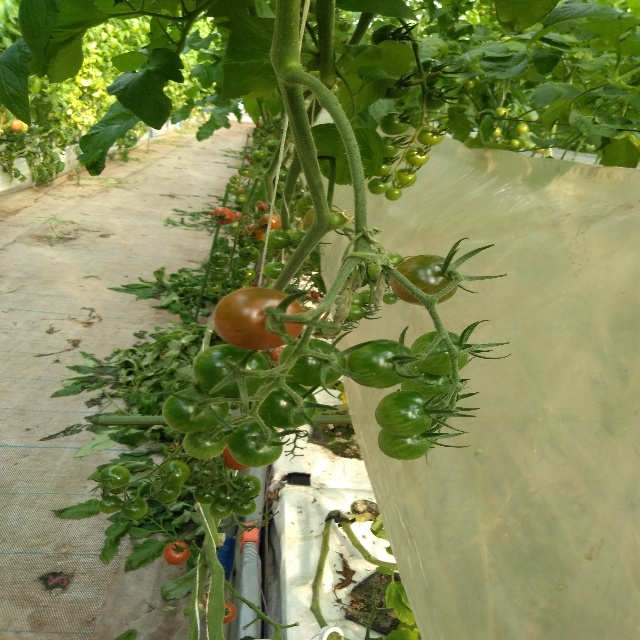l_fully_ripened: (212, 206, 235, 224)
l_green: (193, 344, 270, 397), (345, 339, 417, 389), (278, 338, 347, 387), (251, 380, 318, 429), (161, 387, 230, 433), (375, 390, 433, 438), (226, 420, 283, 468), (410, 331, 469, 376), (400, 367, 454, 403), (378, 428, 431, 461), (183, 425, 227, 459), (411, 59, 443, 88), (158, 460, 191, 487), (188, 459, 219, 484), (233, 474, 263, 499), (150, 479, 181, 503), (379, 112, 411, 135), (371, 24, 406, 45), (416, 86, 446, 110), (99, 465, 129, 488), (384, 75, 410, 100), (121, 496, 147, 520), (262, 229, 291, 250), (193, 484, 222, 504), (403, 147, 429, 167), (416, 127, 443, 146), (209, 498, 233, 519), (289, 228, 310, 250), (98, 496, 122, 514), (395, 168, 417, 187), (382, 137, 401, 158), (234, 498, 256, 516), (262, 262, 285, 279), (296, 195, 315, 215), (367, 178, 388, 195), (238, 246, 260, 262), (210, 252, 230, 269), (346, 305, 365, 321), (236, 267, 255, 283), (385, 253, 402, 268), (384, 187, 401, 201), (351, 292, 365, 308), (367, 262, 379, 280), (382, 293, 397, 304)
l_half_ripened: (213, 287, 305, 350), (390, 254, 459, 306), (222, 443, 249, 470), (164, 542, 190, 566), (259, 214, 282, 232), (243, 223, 265, 240), (222, 601, 236, 624), (303, 208, 315, 228)
